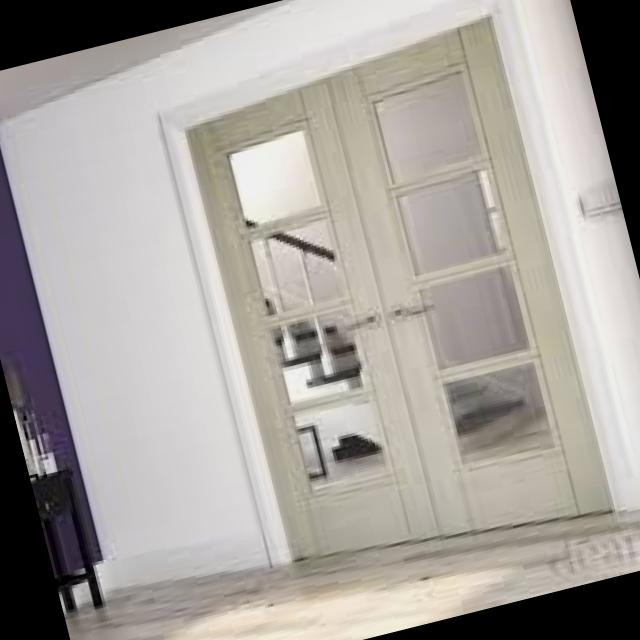door: (157, 0, 640, 564)
